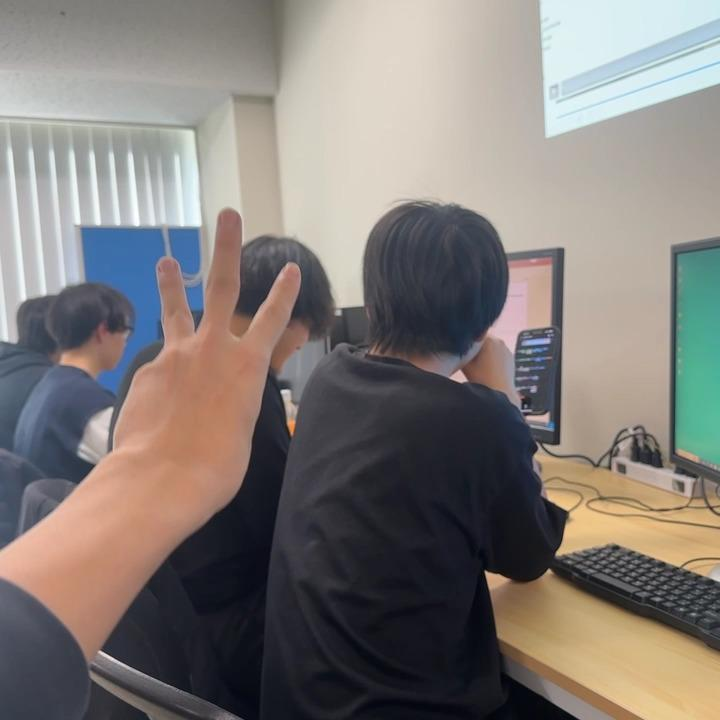without_gloves: (81, 196, 307, 520)
